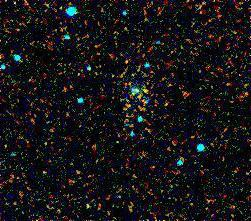star: (134, 74, 164, 104)
